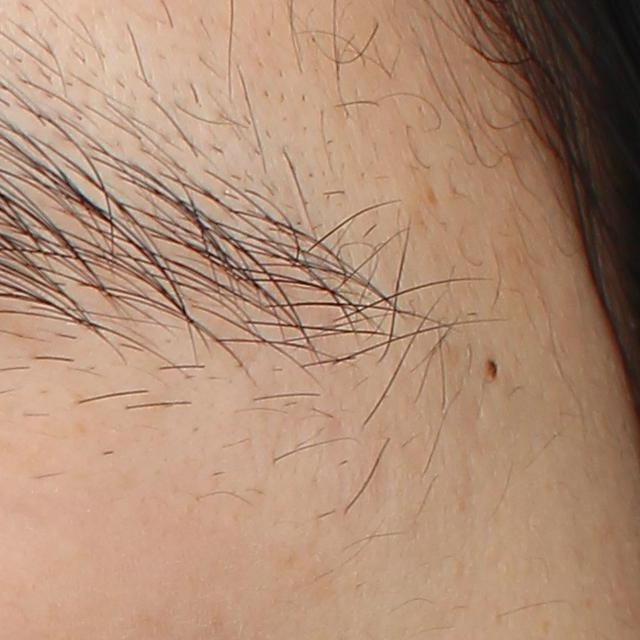nevus: (483, 356, 502, 384)
